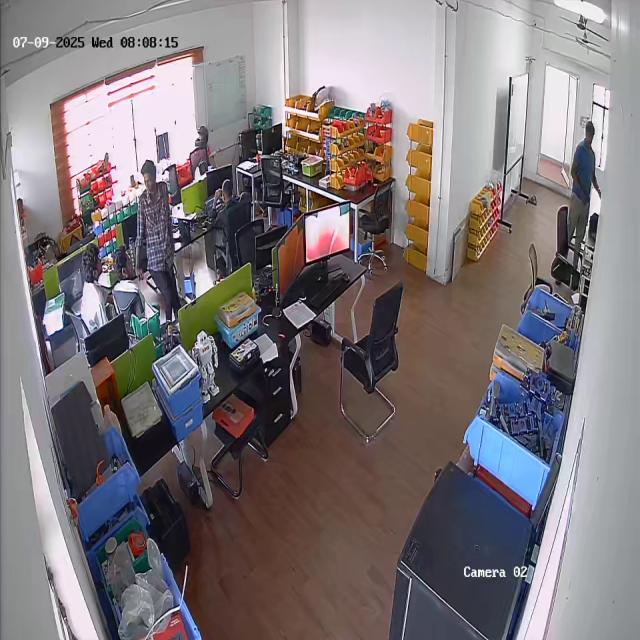person: (136, 159, 180, 321), (567, 122, 602, 264), (76, 242, 109, 340), (207, 179, 242, 255), (113, 247, 145, 330)
